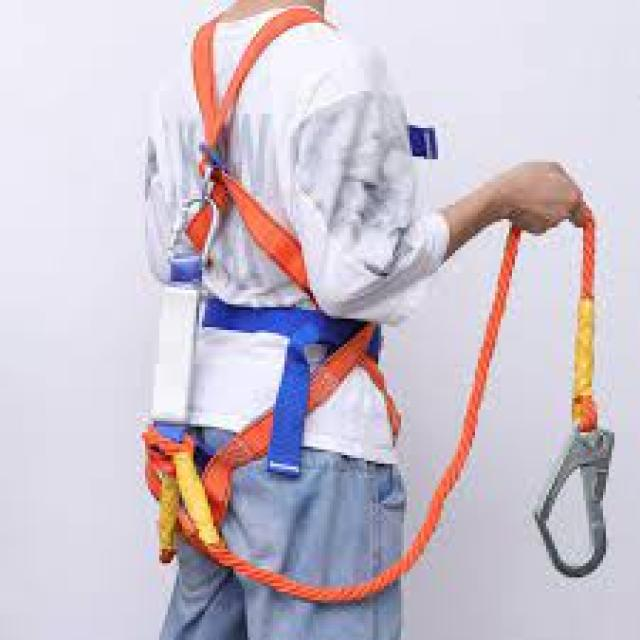harness: (154, 189, 616, 606)
